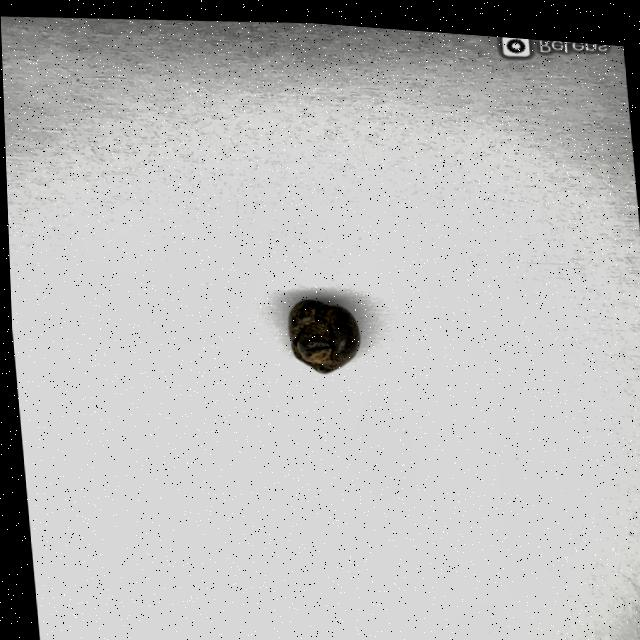Black: (281, 294, 362, 371)
